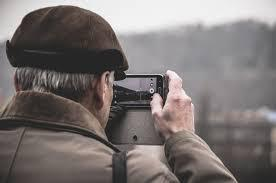Hand: (164, 69, 196, 140)
Smartphone: (108, 75, 174, 108)
